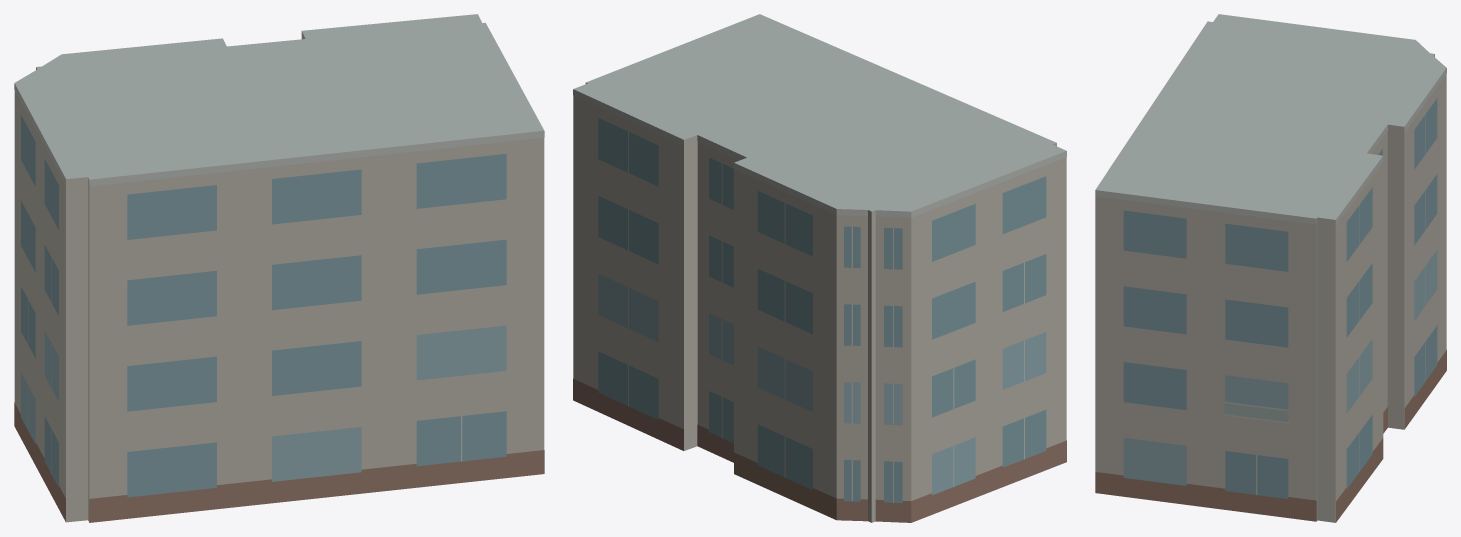
Rendered from survey-upis-32655239.glb.
3 views of the same model, side by side, from view 1: azimuth 30°, elevation 25°; view 2: azimuth 150°, elevation 25°; view 3: azimuth 270°, elevation 25° (orthographic). The views are drawn at different scales.
Parts seen in each view (by area): view 1: survey-upis-32655239.tmp; view 2: survey-upis-32655239.tmp; view 3: survey-upis-32655239.tmp.
Part boxes in pixels (x1=…): survey-upis-32655239.tmp: x1=14, y1=14, x2=544, y2=522; survey-upis-32655239.tmp: x1=573, y1=14, x2=1066, y2=522; survey-upis-32655239.tmp: x1=1095, y1=14, x2=1446, y2=522.
Size of the model in its own units: 17.79 by 12.2 by 12.84.
